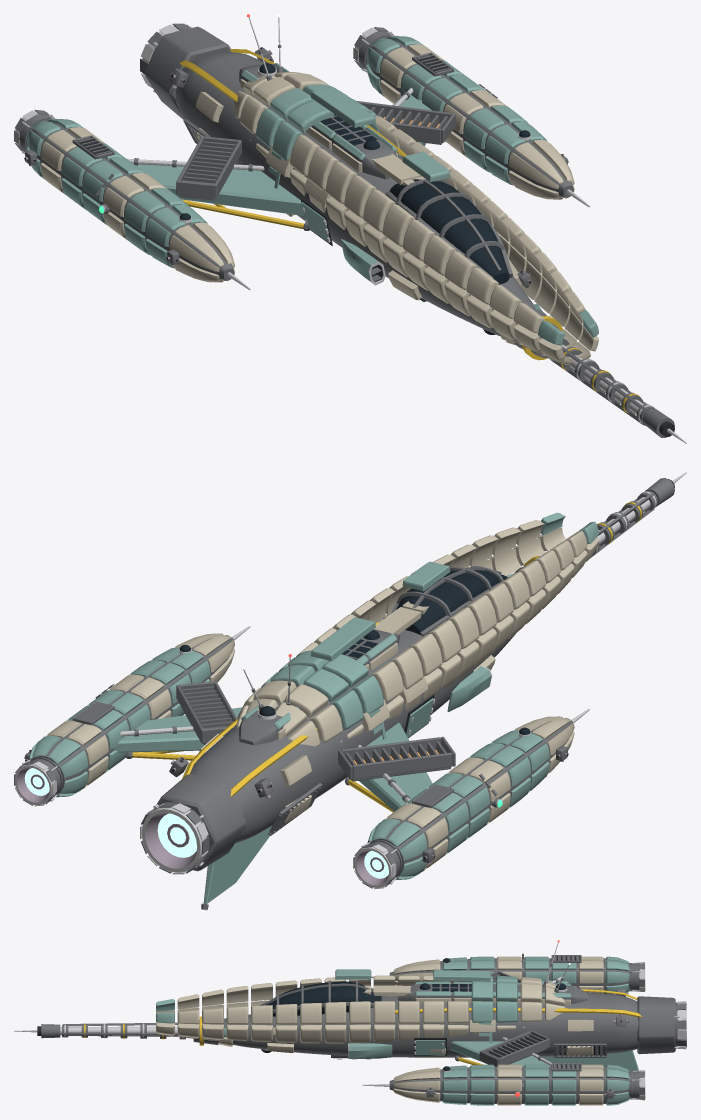
File: interceptor_c.glb
The picture shows the model from 3 angles, top to bottom: view 1: azimuth 30°, elevation 25°; view 2: azimuth 150°, elevation 25°; view 3: azimuth 270°, elevation 25°; orthographic projection. The views are drawn at different scales.
Visible parts, largest first — view 1: interceptor_c; view 2: interceptor_c; view 3: interceptor_c.
Boxes of the visible parts, x1,y1,x2,y2 form: interceptor_c: [14, 14, 686, 443]; interceptor_c: [14, 472, 686, 911]; interceptor_c: [14, 940, 686, 1105].
Bounding box in the file's own units: 5.67 × 2.85 × 12.36.
